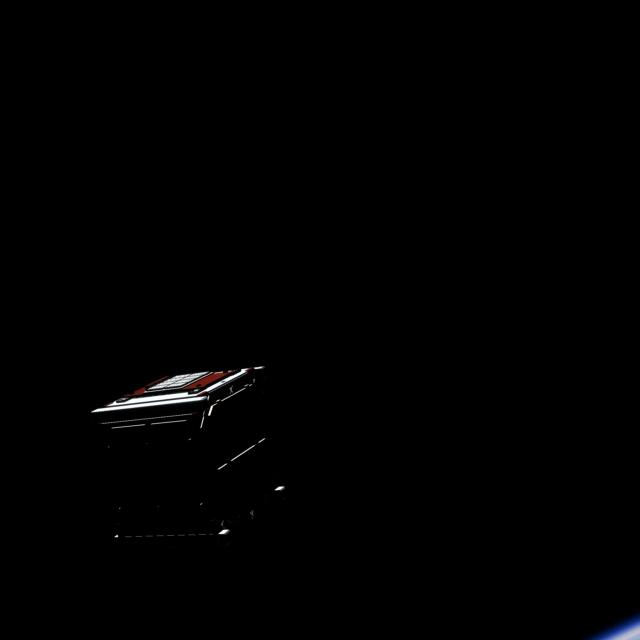satellite: (92, 360, 296, 562)
